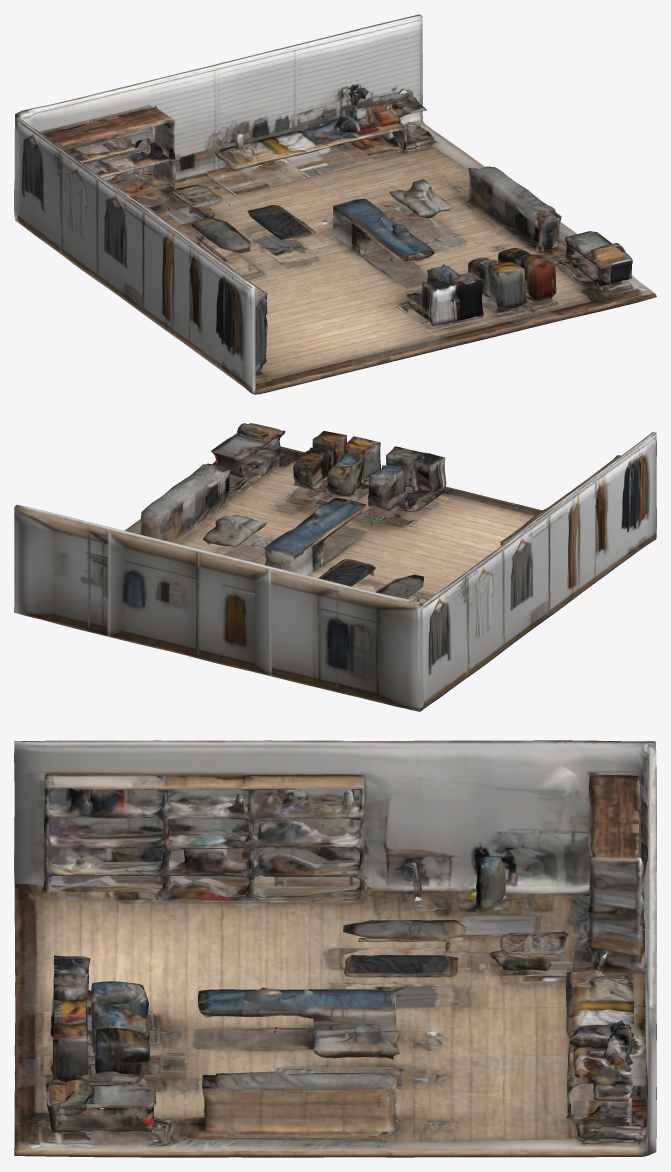
Rendered from recycle_office.glb.
The picture shows the model from 3 angles, top to bottom: view 1: azimuth 30°, elevation 25°; view 2: azimuth 150°, elevation 25°; view 3: azimuth 270°, elevation 25°; orthographic projection. The views are drawn at different scales.
Bounding box in the file's own units: 1.98 × 0.5186 × 2.
Materials: 1 (1 with a texture image).
